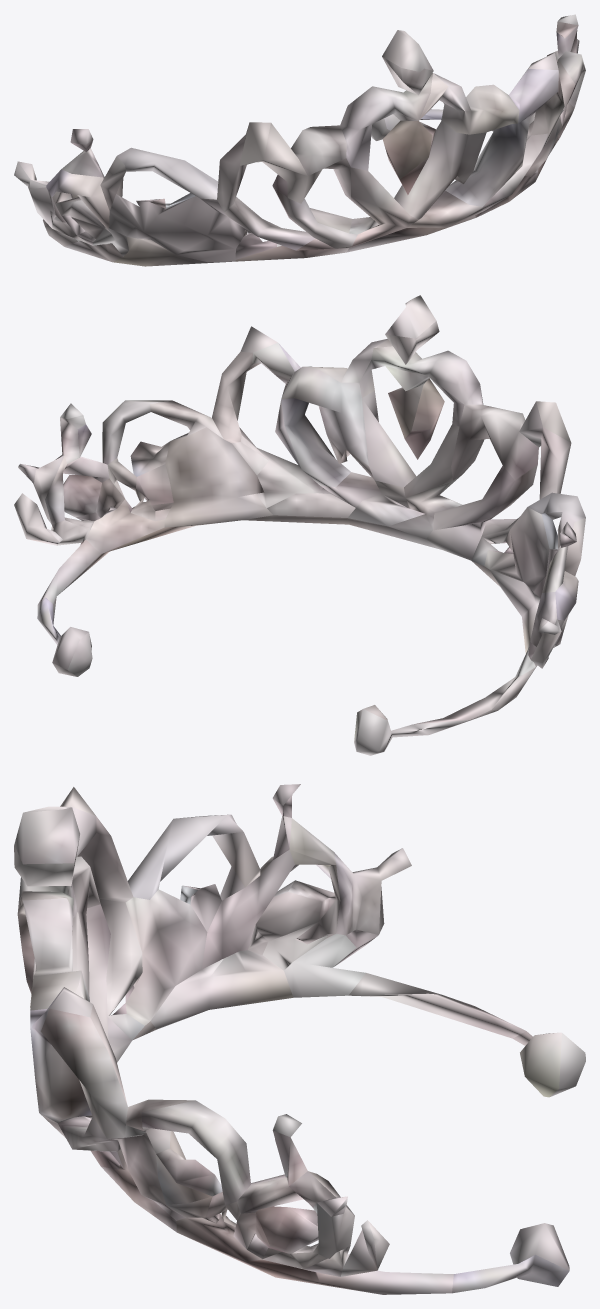
3 renders of one model, top to bottom at view 1: azimuth 30°, elevation 25°; view 2: azimuth 150°, elevation 25°; view 3: azimuth 270°, elevation 25°, orthographic. The views are drawn at different scales.
Parts seen in each view (by area): view 1: Silver-Tiara-17; view 2: Silver-Tiara-17; view 3: Silver-Tiara-17.
Boxes of the visible parts, left/top/right/bottom form: Silver-Tiara-17: left=14, top=14, right=585, bottom=266; Silver-Tiara-17: left=14, top=295, right=585, bottom=755; Silver-Tiara-17: left=14, top=784, right=585, bottom=1294.
Size of the model in its own units: 0.326 by 0.1591 by 0.2144.
1 material, 1 textured.
